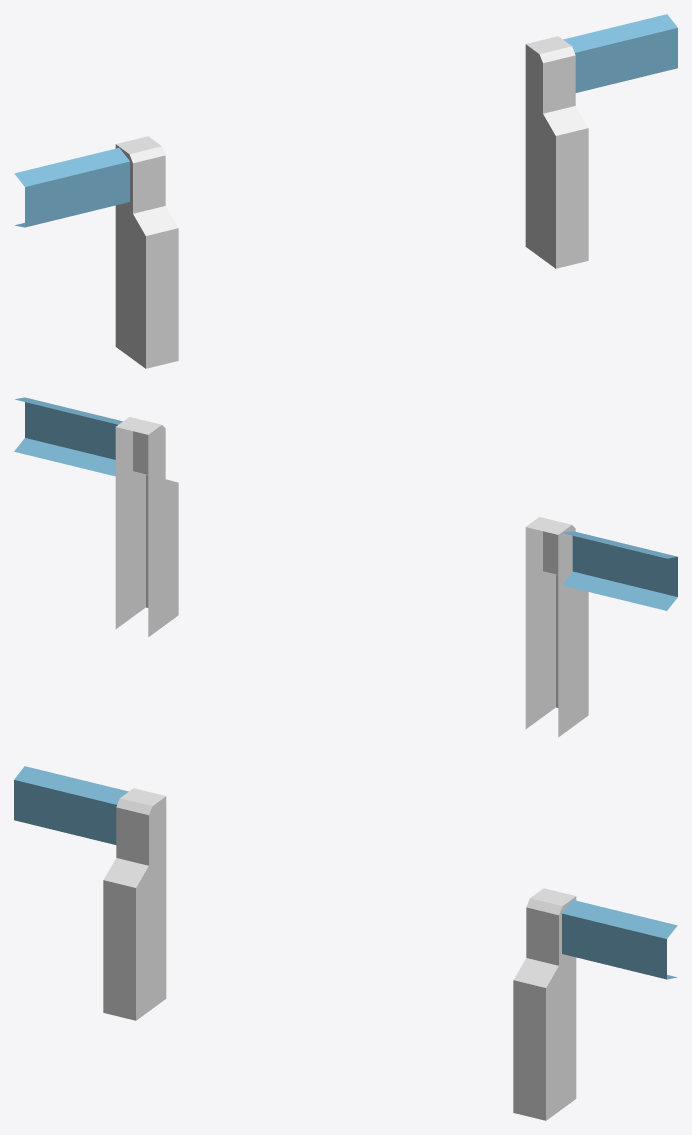
File: DoorSingleLong_Wall_SideA.040.fbx
3 renders of one model, top to bottom at view 1: azimuth 30°, elevation 25°; view 2: azimuth 150°, elevation 25°; view 3: azimuth 330°, elevation 25°, orthographic.
Parts seen in each view (by area): view 1: DoorSingleLong_Wall_SideA.040; view 2: DoorSingleLong_Wall_SideA.040; view 3: DoorSingleLong_Wall_SideA.040.
Part boxes in pixels (<box>): DoorSingleLong_Wall_SideA.040: <box>14,14,677,368</box>; DoorSingleLong_Wall_SideA.040: <box>14,397,677,737</box>; DoorSingleLong_Wall_SideA.040: <box>14,766,677,1120</box>.
Bounding box in the file's own units: 2 × 0.593 × 0.1603.
